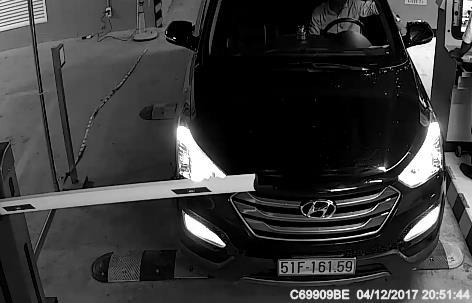License-plate: (270, 248, 367, 283)
